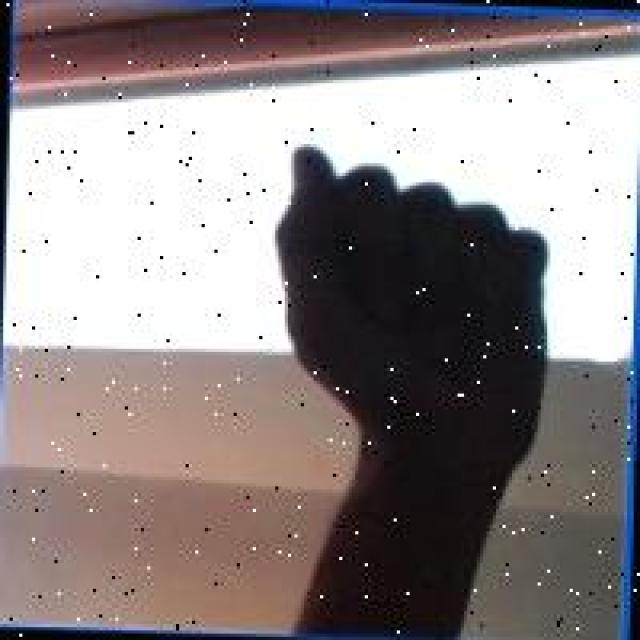A: (254, 134, 568, 493)
